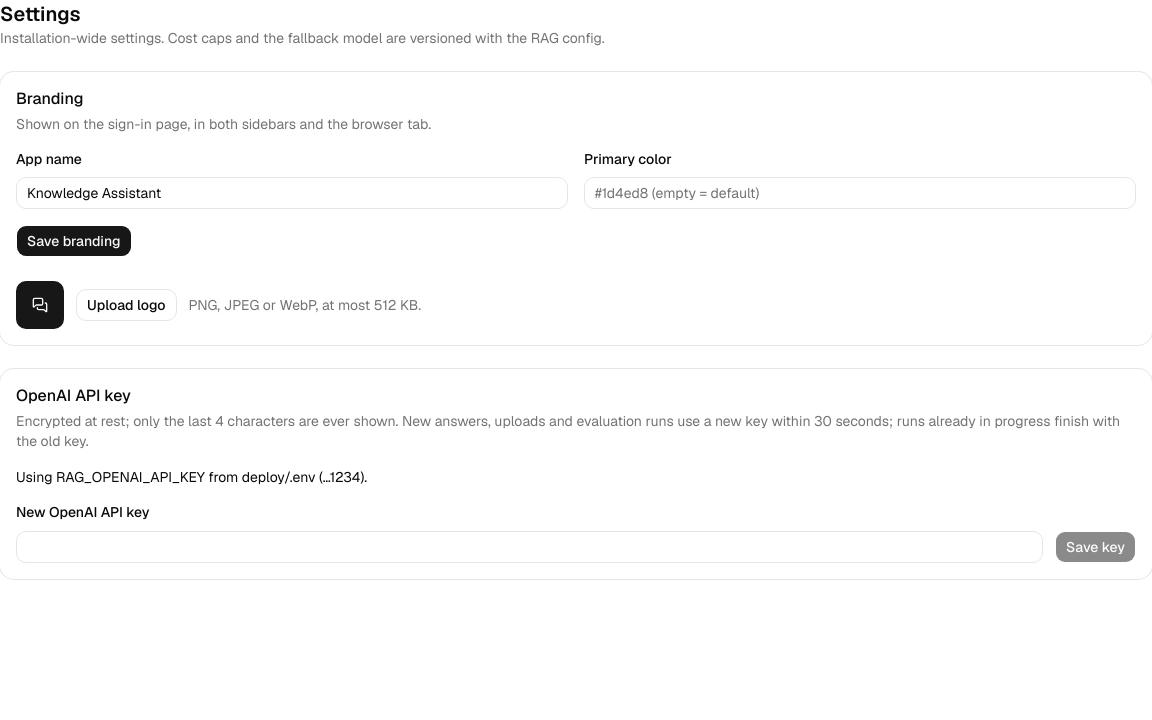
SettingsPage › saves the key after a password and never shows it again
Expected: the text "Using RAG_OPENAI_API_KEY from deploy/.env (…1234)." is shown, 16,468 -> 367,486
Type "sk-live-abcdefghijklmnop9876" into the password field labelled "New OpenAI API key". click: (530, 546)
box: 16,530 -> 1043,562
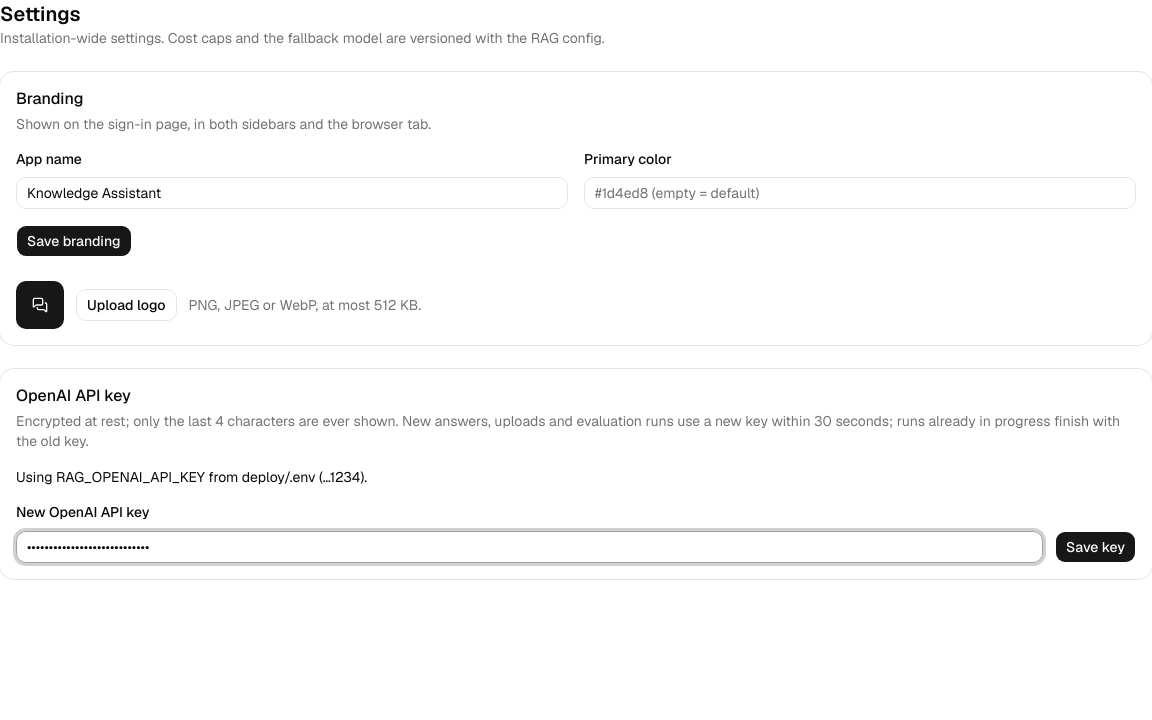
Click the button "Save key". click: (1096, 546)
box: 1055,530 -> 1136,562
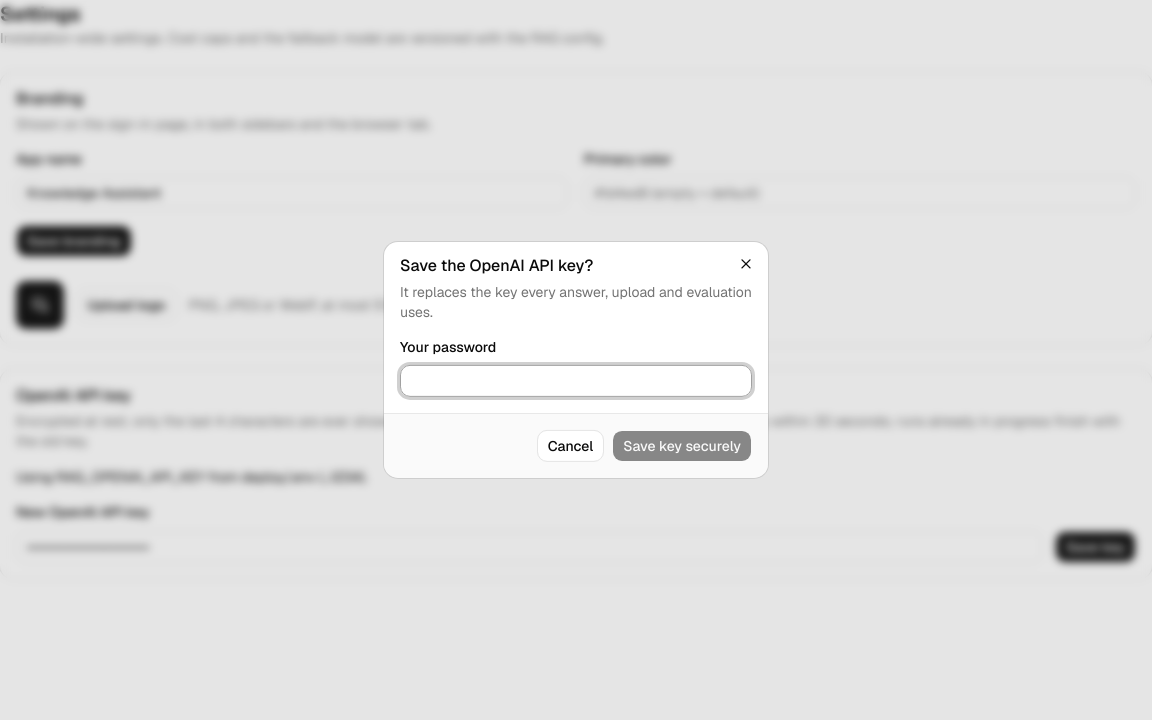
Type "pw-123" into the password field labelled "Your password". click: (576, 381)
box: 400,365 -> 752,397
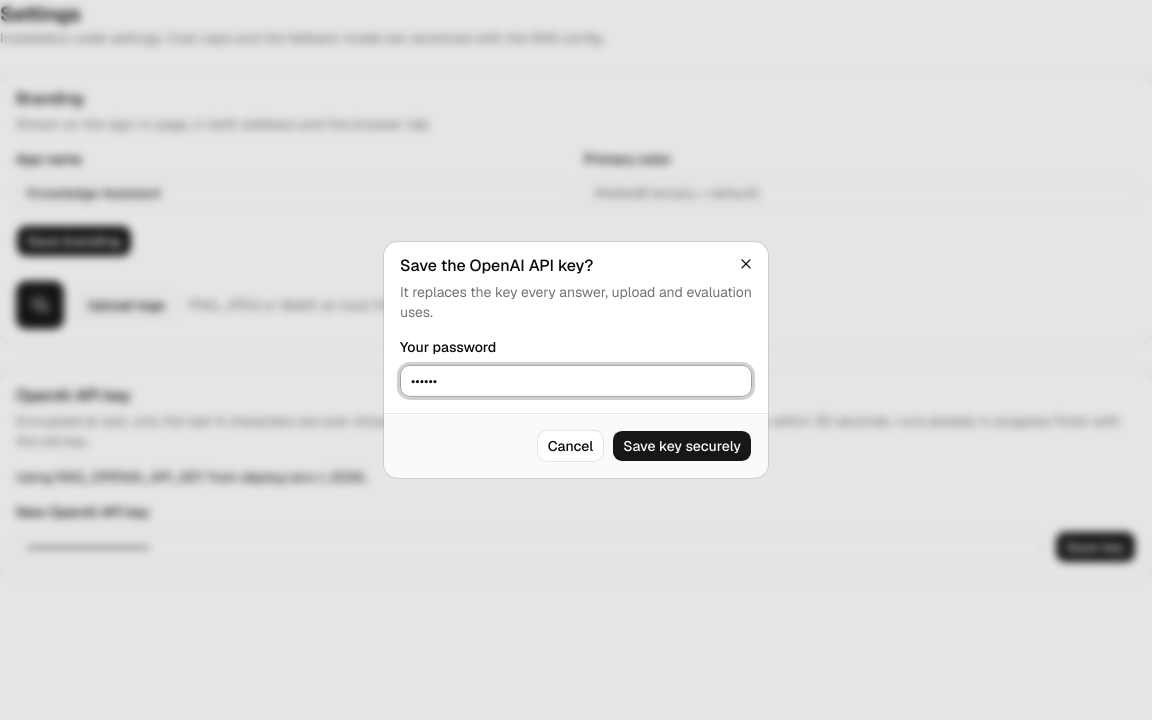
Click the button "Save key securely". click: (682, 446)
box: 612,430 -> 752,462
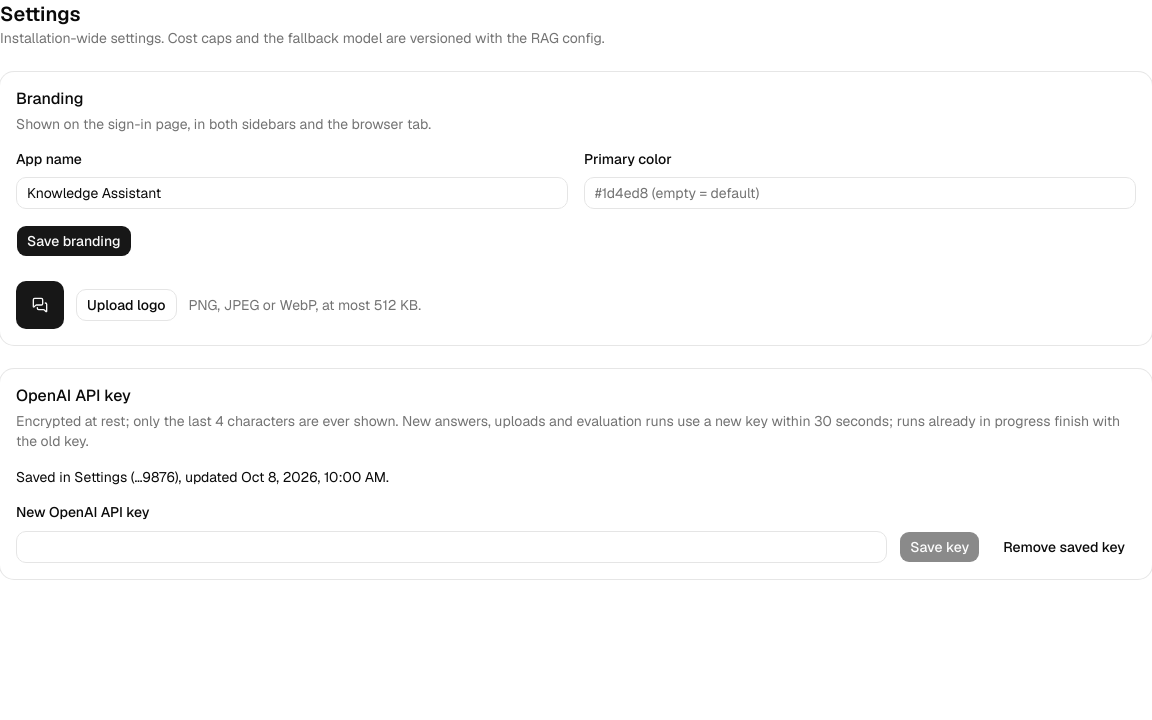
Expected: the text "Saved in Settings (…9876), updated Oct 8, 2026, 10:00 AM." is shown, 16,468 -> 389,486
Expected: the password field labelled "New OpenAI API key" is empty, 16,530 -> 887,562
